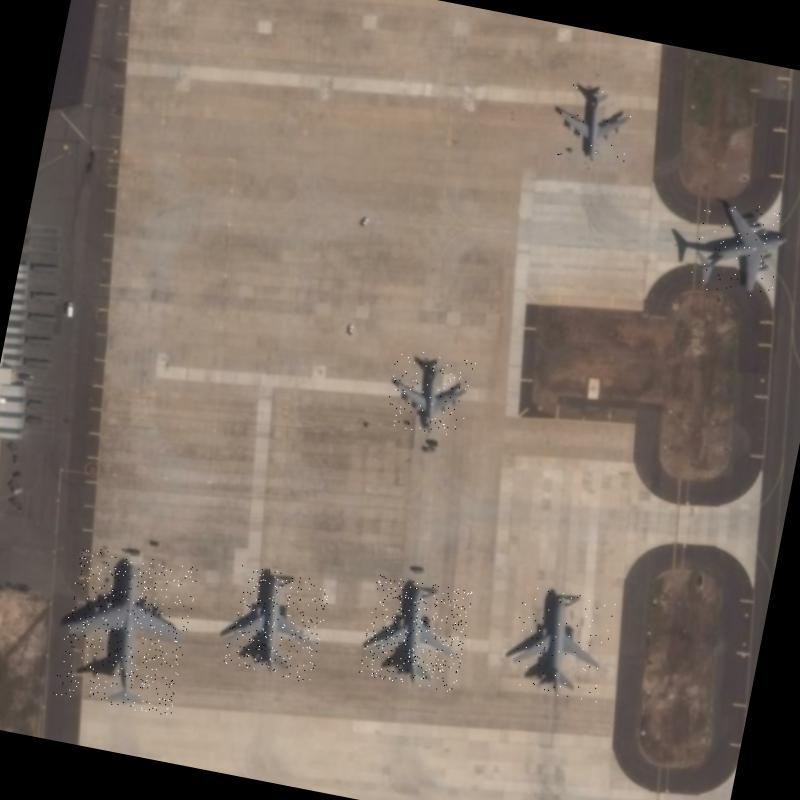A14: (382, 347, 476, 440), (546, 81, 638, 168)
A18: (358, 573, 474, 693), (506, 583, 616, 703), (222, 564, 331, 683)
A3: (686, 196, 797, 304)
A4: (52, 545, 200, 717)
